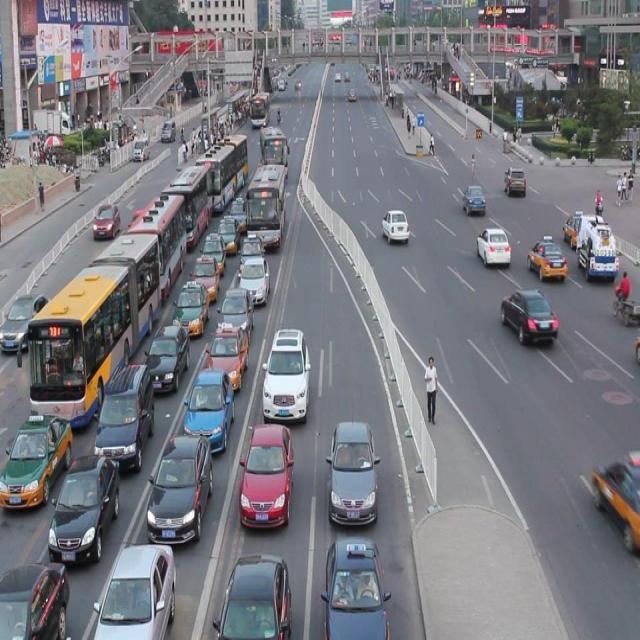bus: (574, 212, 617, 279)
car: (94, 538, 175, 640), (48, 452, 120, 554), (321, 535, 389, 640), (148, 428, 213, 536), (214, 551, 290, 640), (0, 411, 70, 503), (94, 358, 154, 461), (0, 554, 68, 640), (327, 417, 380, 517), (240, 422, 294, 517), (262, 325, 310, 415), (185, 364, 233, 442), (499, 287, 557, 345), (1, 291, 52, 353), (146, 317, 189, 386), (205, 320, 248, 384), (218, 284, 254, 339), (174, 278, 210, 330), (526, 235, 566, 279), (475, 224, 510, 268), (241, 252, 270, 298), (190, 250, 220, 294), (562, 209, 588, 250), (200, 229, 226, 269), (240, 228, 263, 270), (381, 208, 408, 242), (93, 205, 120, 238), (216, 210, 239, 246), (227, 191, 250, 226), (462, 186, 484, 217), (503, 166, 524, 195), (126, 207, 147, 235)
van: (16, 230, 160, 421), (123, 187, 186, 296), (197, 125, 247, 203), (247, 162, 286, 250), (168, 158, 208, 241), (260, 125, 289, 180)
